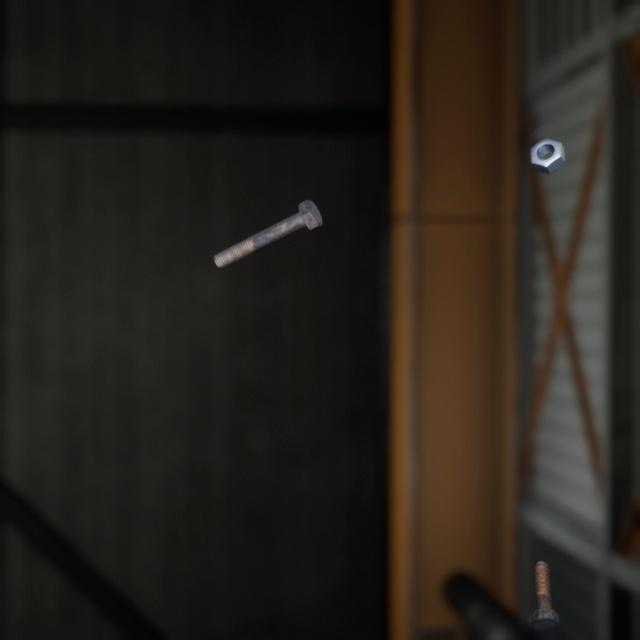bolt: (209, 179, 327, 257), (524, 533, 563, 612)
nut: (525, 120, 569, 164)
